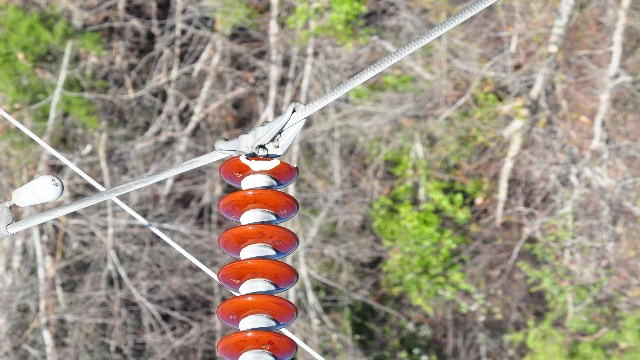broken_local: (236, 153, 300, 171)
insulator_unspecified: (214, 154, 299, 359)
